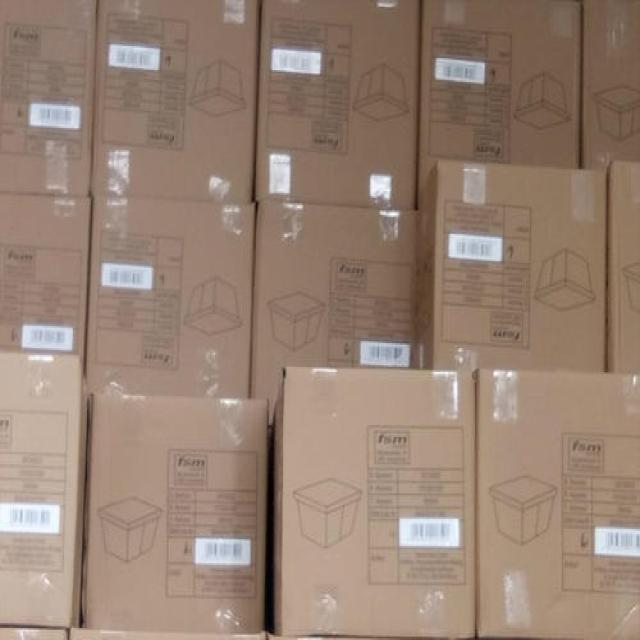box: (268, 370, 476, 638), (81, 396, 267, 633), (476, 372, 639, 638), (416, 165, 608, 373), (250, 201, 418, 424), (89, 0, 262, 204), (84, 196, 255, 402), (255, 1, 422, 210), (416, 1, 582, 195), (0, 353, 91, 628), (0, 1, 97, 196), (0, 195, 92, 372), (609, 161, 639, 374), (67, 630, 268, 638), (0, 626, 69, 638)
